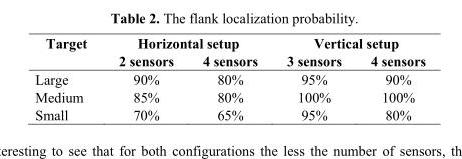table: (34, 34, 425, 122)
table column: (102, 34, 187, 122), (187, 34, 271, 122), (271, 34, 355, 122), (355, 34, 425, 122), (34, 34, 102, 122)
table column header: (34, 34, 425, 69)
table row: (34, 51, 425, 69), (34, 69, 425, 87), (34, 87, 425, 105), (34, 34, 425, 51), (34, 105, 425, 122)
table spanning cell: (102, 34, 271, 51), (271, 34, 425, 51), (34, 34, 102, 69)
